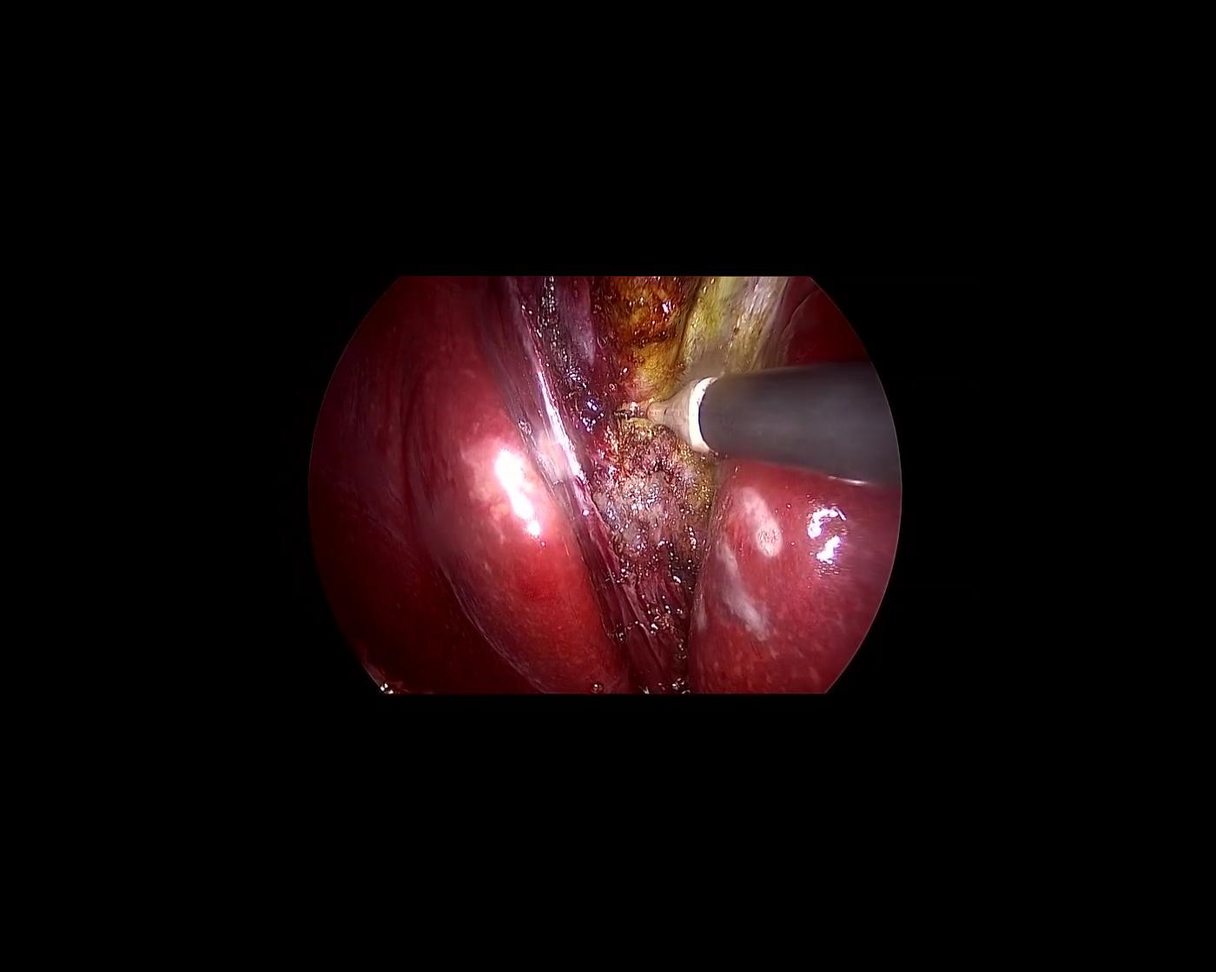Cautery: (608, 353, 897, 507)
Liver: (236, 245, 660, 788), (682, 269, 932, 717)
